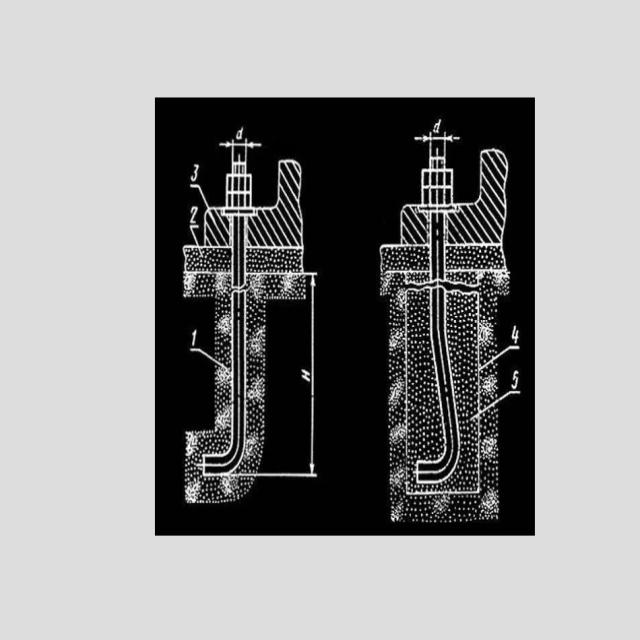marking_line: (267, 304, 318, 480), (306, 273, 318, 479), (413, 133, 461, 156), (217, 136, 262, 160)
numeric: (510, 370, 521, 390), (189, 164, 200, 184), (189, 203, 198, 224), (511, 323, 519, 344), (191, 329, 197, 347)
